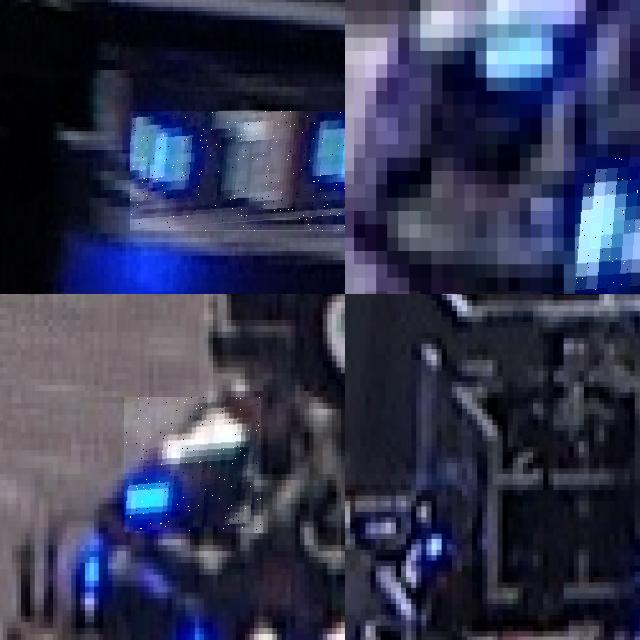B1: (129, 111, 345, 231)
B2: (386, 484, 457, 598)
B4: (124, 397, 261, 533), (574, 157, 640, 294), (162, 598, 318, 640)
